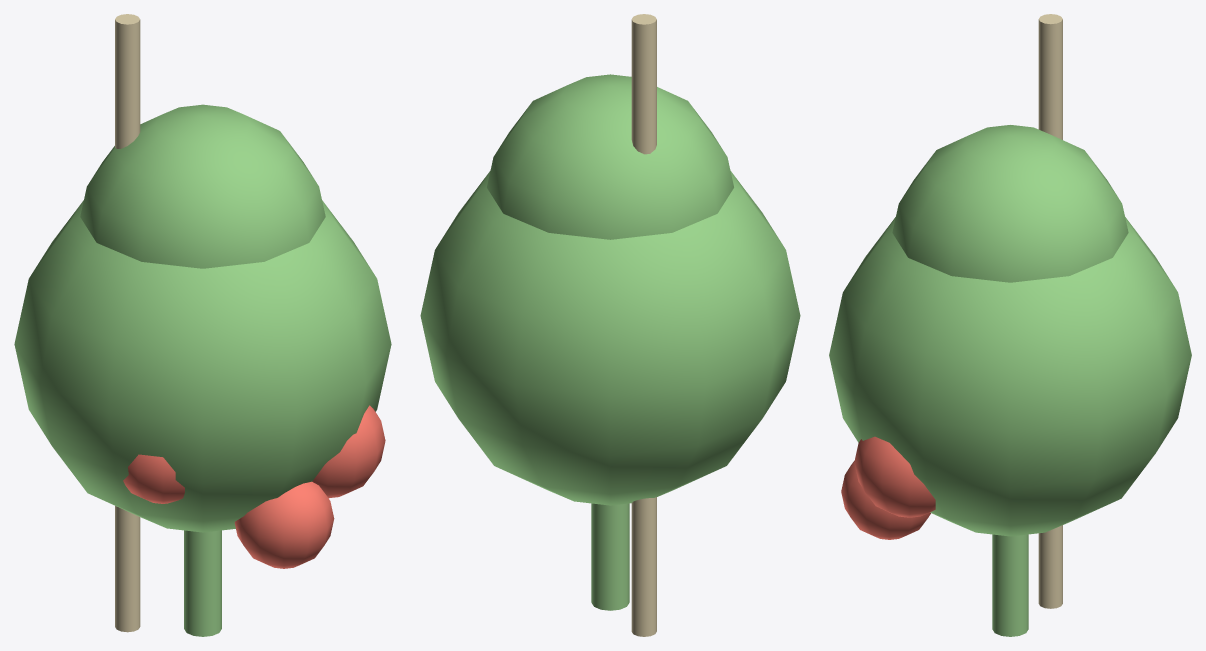
Rendered from crop_tomato_mature.glb.
The picture shows the model from 3 angles, left to right: view 1: azimuth 30°, elevation 25°; view 2: azimuth 150°, elevation 25°; view 3: azimuth 270°, elevation 25°; orthographic projection. The views are drawn at different scales.
Parts seen in each view (by area): view 1: Crop_Tomato_Mature; view 2: Crop_Tomato_Mature; view 3: Crop_Tomato_Mature.
Boxes of the visible parts, x1,y1,x2,y2 form: Crop_Tomato_Mature: (14, 14, 391, 636); Crop_Tomato_Mature: (420, 14, 800, 636); Crop_Tomato_Mature: (829, 14, 1191, 636).
Bounding box in the file's own units: 0.36 × 0.64 × 0.36.
